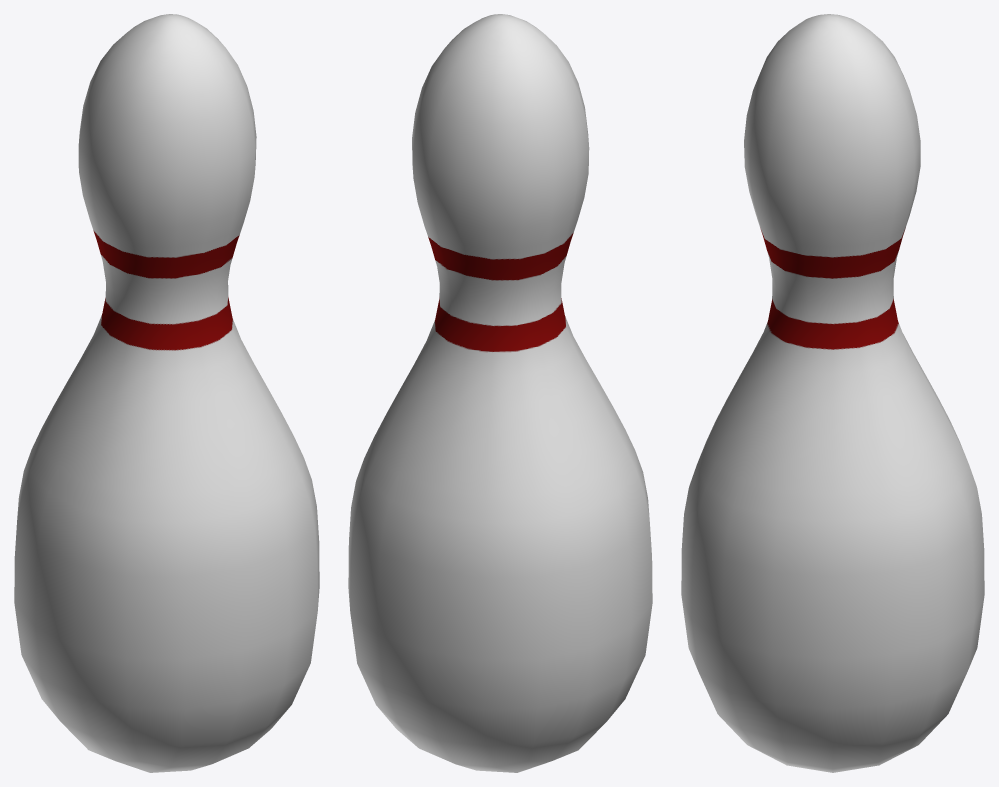
Rendered from Skittle.fbx.
The picture shows the model from 3 angles, left to right: view 1: azimuth 30°, elevation 25°; view 2: azimuth 150°, elevation 25°; view 3: azimuth 270°, elevation 25°; orthographic projection.
Visible parts, largest first — view 1: Cube; view 2: Cube; view 3: Cube.
Part boxes in pixels (<box>): Cube: <box>14,14,319,772</box>; Cube: <box>348,14,652,772</box>; Cube: <box>681,14,984,772</box>.
Size of the model in its own units: 73.32 by 198 by 73.32.
